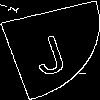J: (24, 24, 71, 77)
